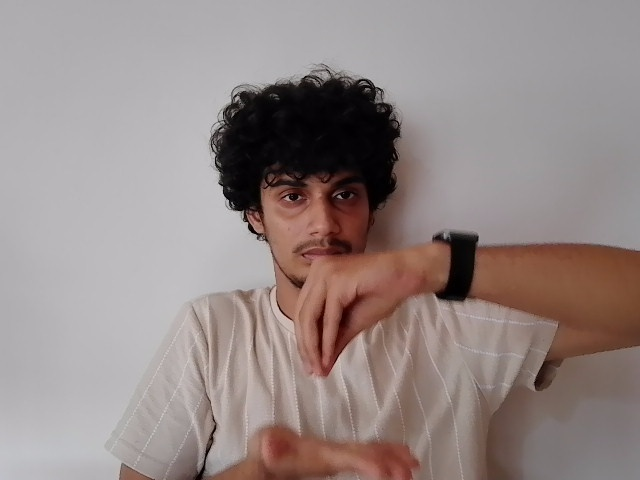learn: (260, 250, 423, 480)
